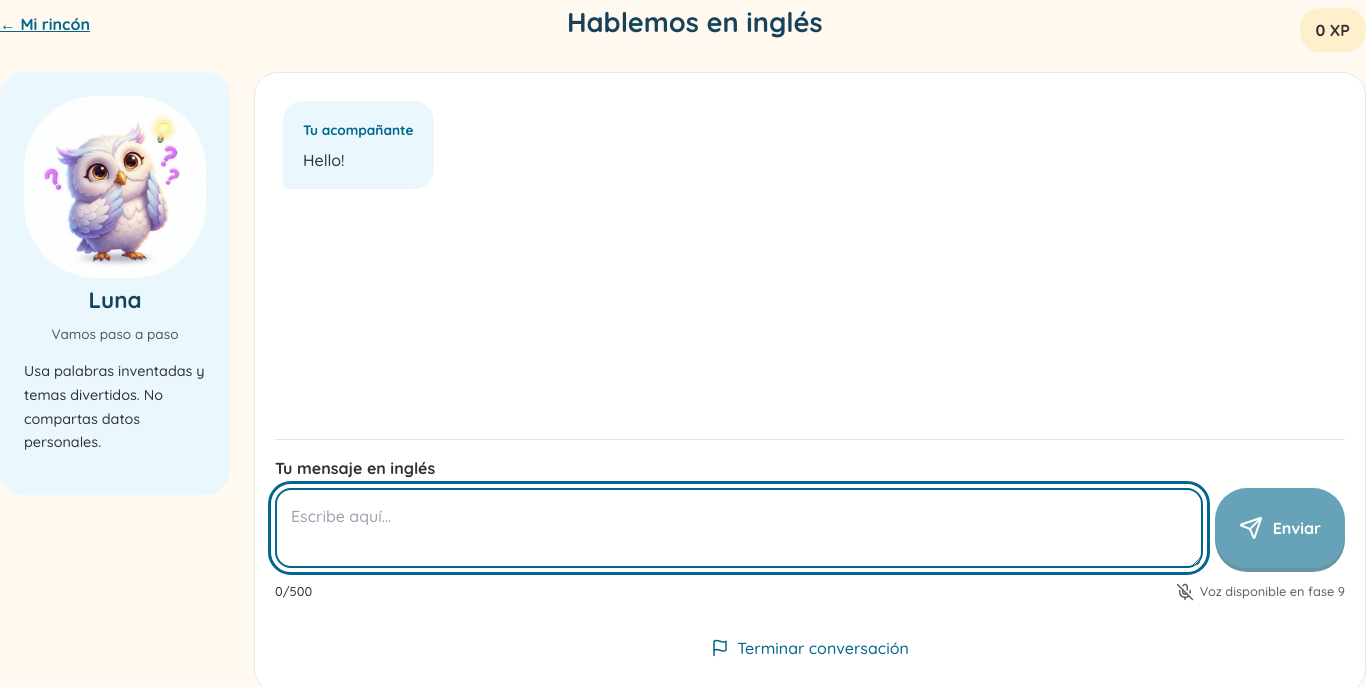
Test case: conversation boundaries › keeps UUID/body immutable across failure and explicit retry, blocks duplicate sends and hides unaccepted text
Type "dog" into the text box labelled "Tu mensaje en inglés" at (739, 528), box x1=275 y1=488 x2=1203 y2=568
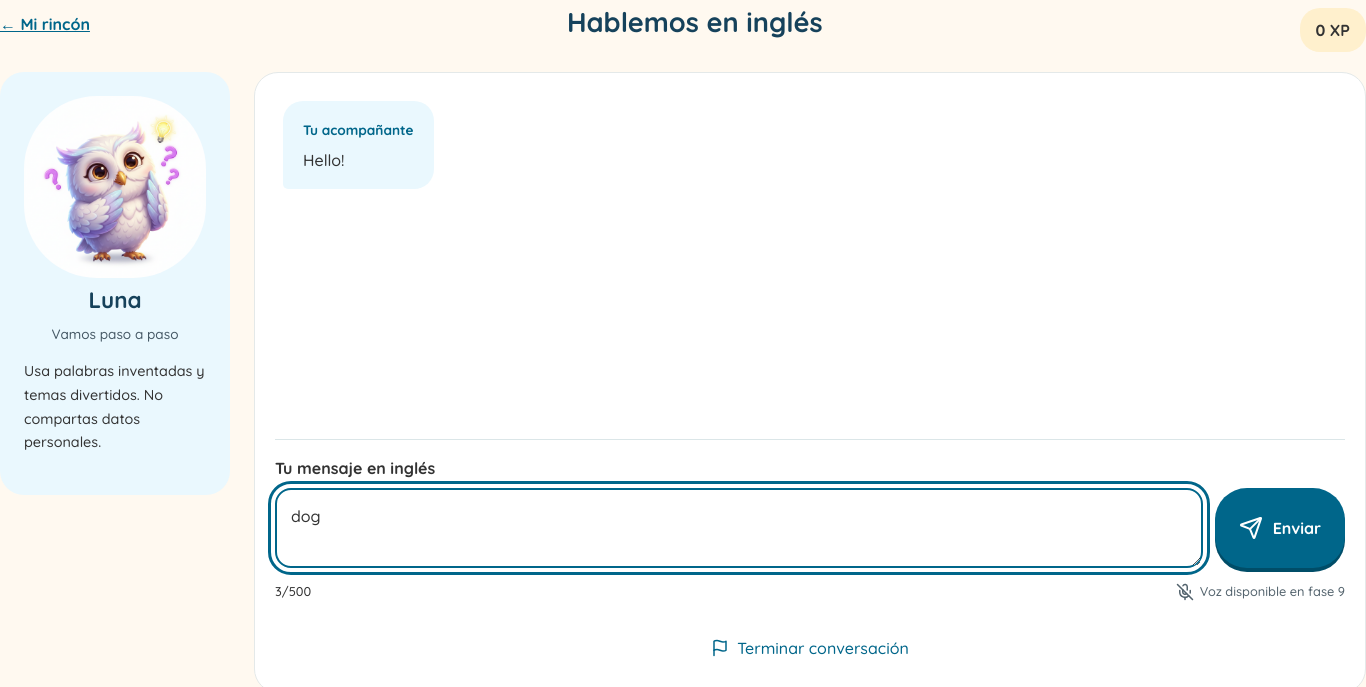
Click the button with aria-label "Enviar mensaje" at (1280, 528), box x1=1215 y1=488 x2=1345 y2=568
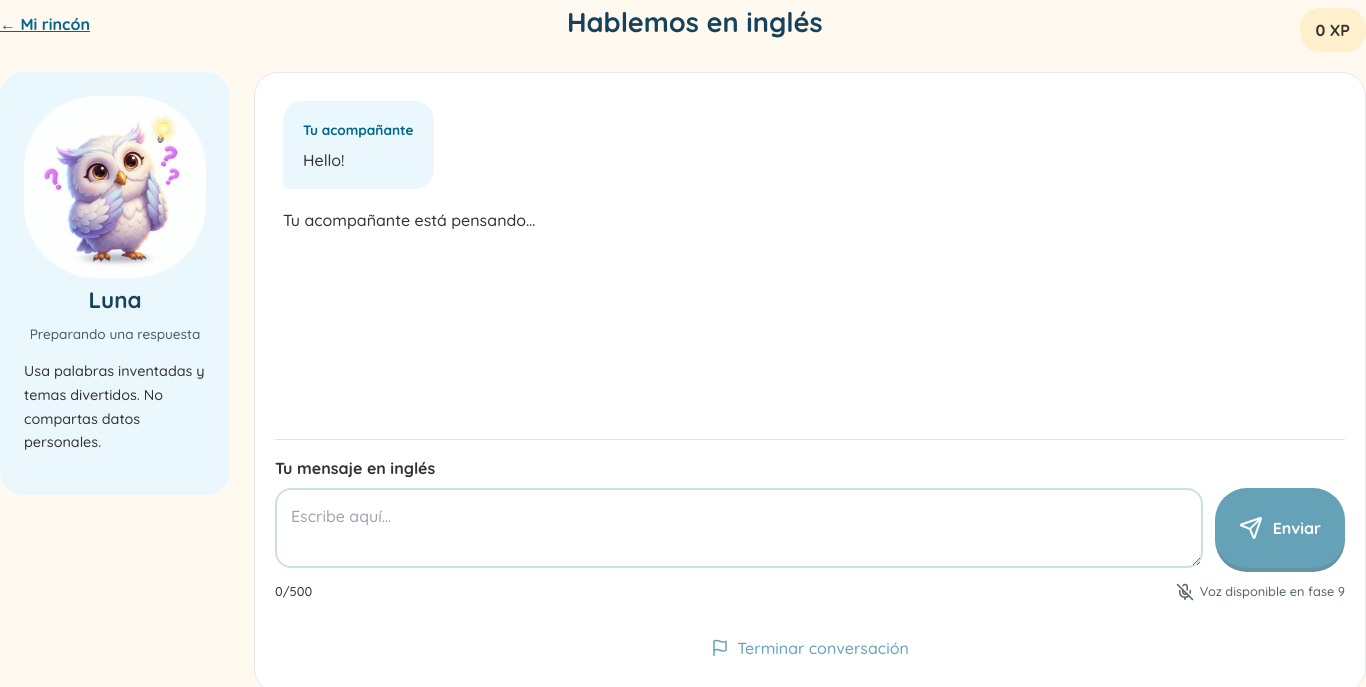
Click the button with aria-label "Enviar mensaje" at (1280, 528), box x1=1215 y1=488 x2=1345 y2=568
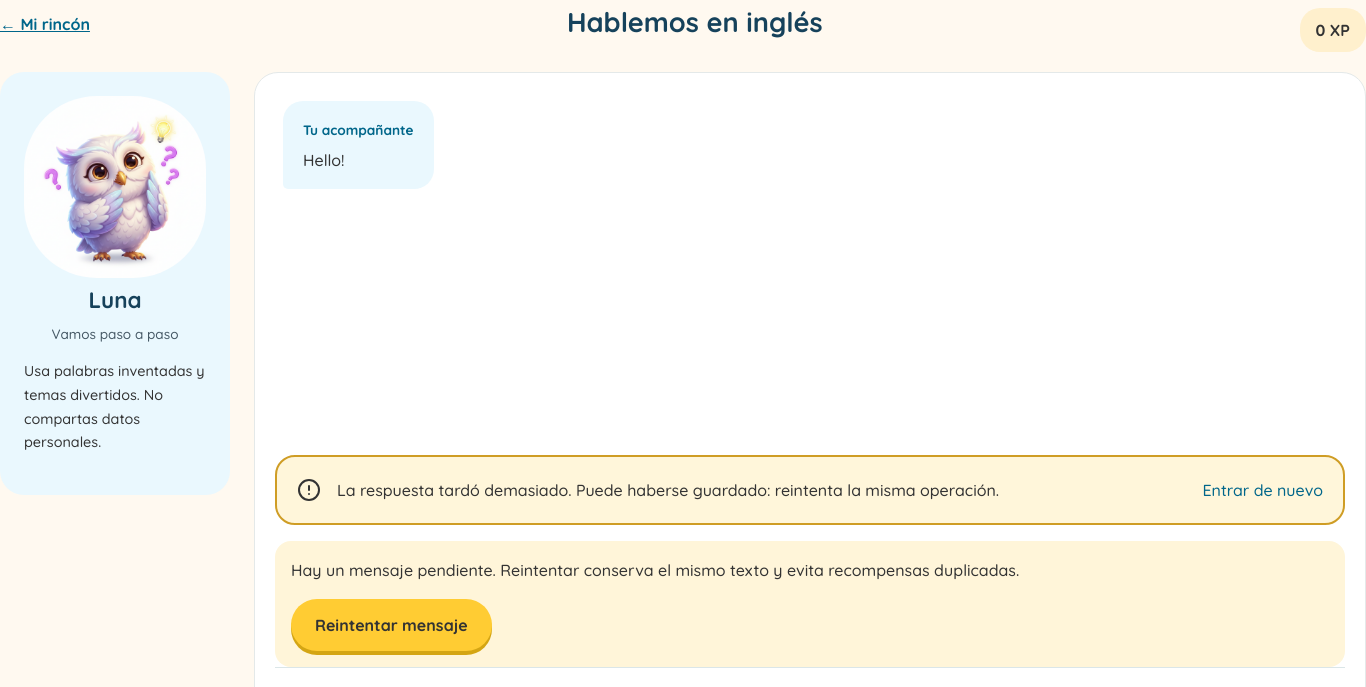
Click the button "Reintentar mensaje" at (391, 625), box x1=291 y1=599 x2=492 y2=651
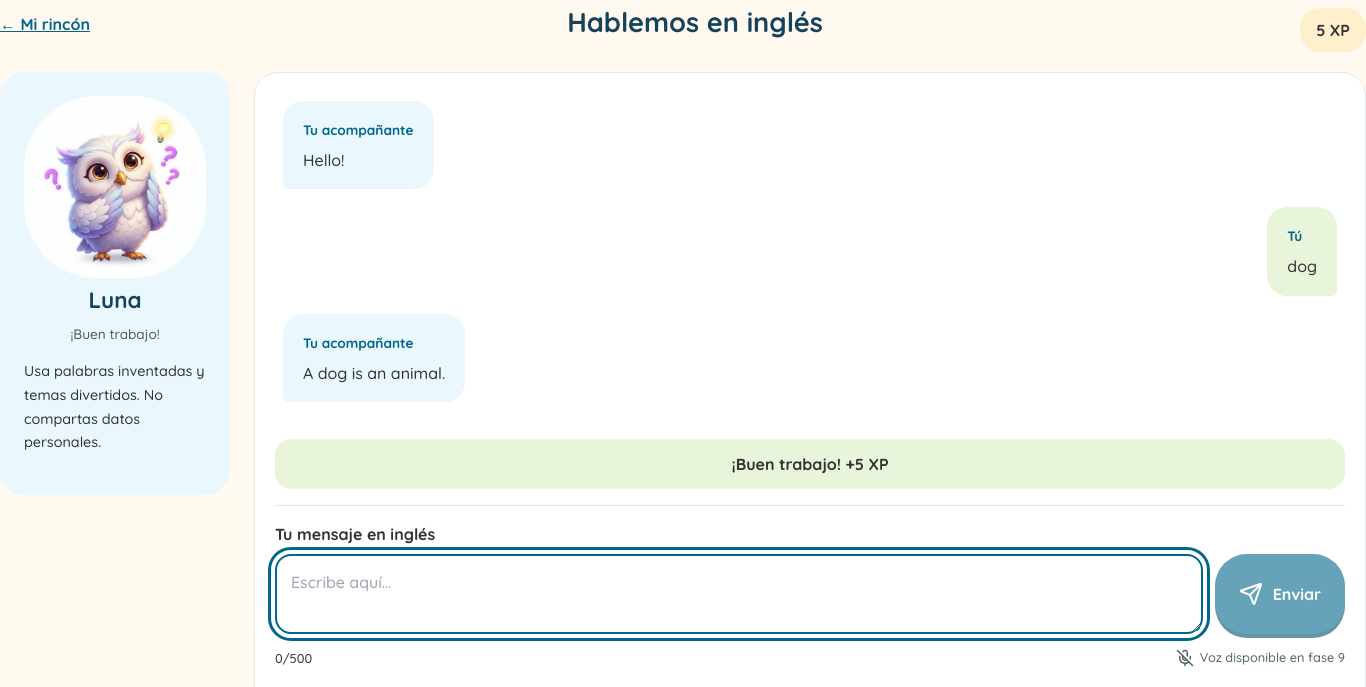
expect the element with class "child" shows "dog": met, box x1=1287 y1=256 x2=1317 y2=276
expect the message with class "celebration" shows "+5 XP": met, box x1=731 y1=454 x2=889 y2=474
